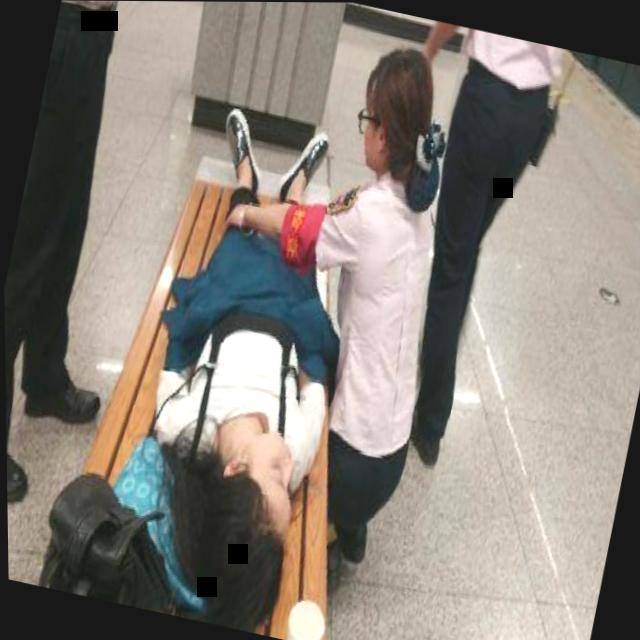Fall-Detected: (101, 97, 394, 634)
